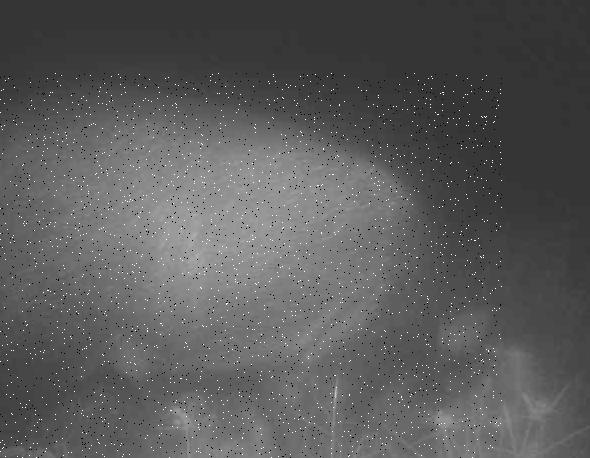Hog: (0, 73, 502, 458)
